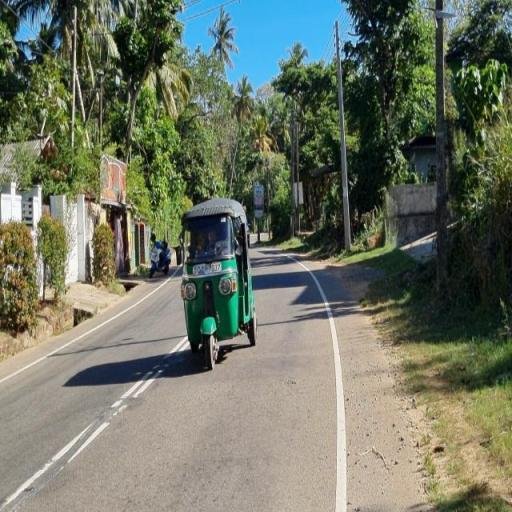double_white_line: (111, 337, 188, 416)
